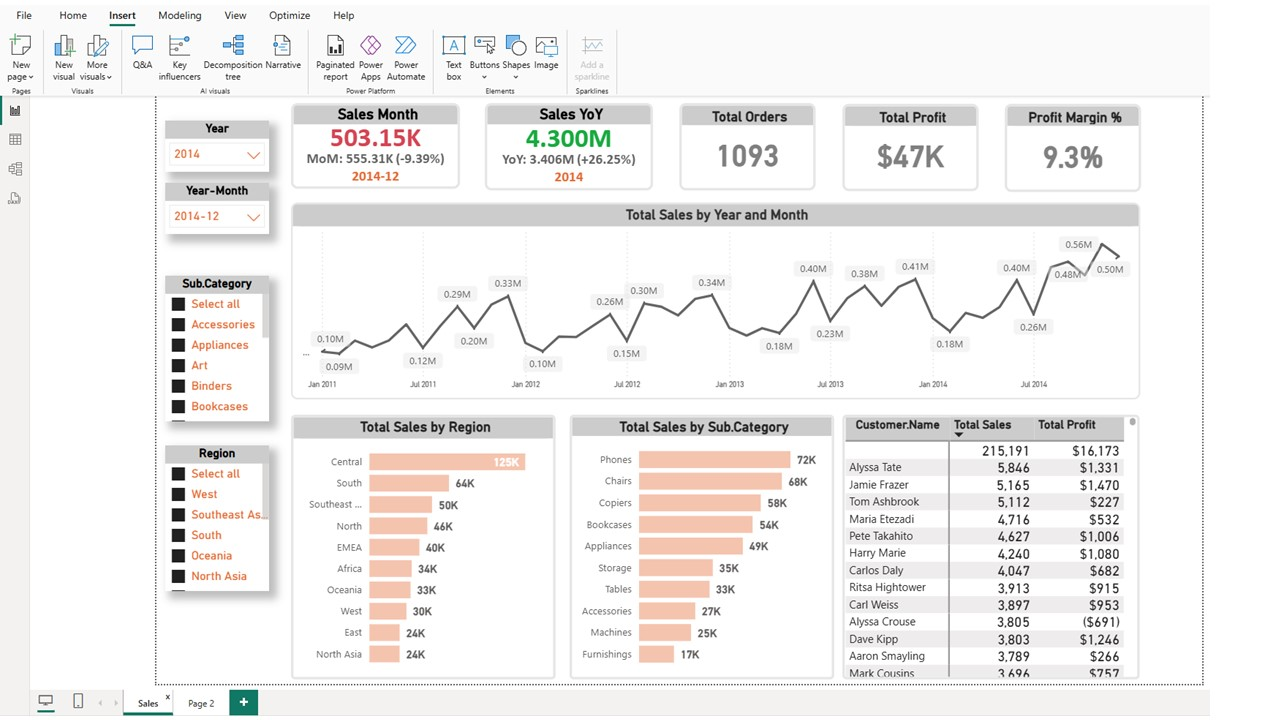

The page's visual inventory and layout, read from the dashboard file:
{"tool":"powerbi","page":{"name":"Sales","canvas":[1280,720],"ordinal":0},"visuals":[{"type":"kpi","title":"Sales Month","fields":{"Indicator":["Repo_Measures.Sales (Month)"],"TrendLine":["Dim_Date.YearMonth"],"Goal":["Repo_Measures.Sales Target (Last Month)"]},"box":[164.9,9,207.1,104.9],"z":0},{"type":"slicer","title":"Year","fields":{"Values":["Dim_Date.Year"]},"box":[10.8,30.5,127.3,62.7],"z":1000},{"type":"slicer","title":"Year-Month","fields":{"Values":["Dim_Date.YearMonth"]},"box":[10.8,106.7,127.3,62.7],"z":2000},{"type":"kpi","title":"Sales YoY","fields":{"Indicator":["Repo_Measures.Sales (YTD)"],"Goal":["Repo_Measures.Sales Target (Last Full Year)"],"TrendLine":["Dim_Date.Year"]},"box":[402.5,9,206.2,106.7],"z":3000},{"type":"card","title":"Total Orders","fields":{"Values":["Repo_Measures.Total Orders"]},"box":[639.9,9,166.7,106.7],"z":4000},{"type":"card","title":"Total Profit","fields":{"Values":["Repo_Measures.Total Profit"]},"box":[839.7,9.9,166.7,106.7],"z":5000},{"type":"card","title":"Profit Margin %","fields":{"Values":["Repo_Measures.Profit Margin %"]},"box":[1038.8,9.9,166.7,107.6],"z":6000},{"type":"lineChart","fields":{"Y":["Repo_Measures.Total Sales"],"Category":["Dim_Date.Date.Variation.Date Hierarchy.Year","Dim_Date.Date.Variation.Date Hierarchy.Month"]},"box":[164.9,130.9,1039.8,241.1],"z":7000},{"type":"clusteredBarChart","fields":{"Category":["Orders.Region"],"Y":["Repo_Measures.Total Sales"]},"box":[164.9,390.8,323.6,324],"z":8000},{"type":"clusteredBarChart","fields":{"Category":["Dim_Products.Sub.Category"],"Y":["Repo_Measures.Total Sales"]},"box":[505.5,390.8,323.6,324.5],"z":9000},{"type":"pivotTable","fields":{"Rows":["Dim_Customers.Customer.Name"],"Values":["Repo_Measures.Total Sales","Repo_Measures.Total Profit"]},"box":[840,390.4,364.5,324.2],"z":10000},{"type":"slicer","title":"Region","fields":{"Values":["Orders.Region"]},"box":[10.7,428.1,127.2,178.2],"z":11000},{"type":"slicer","title":"Sub.Category","fields":{"Values":["Dim_Products.Sub.Category"]},"box":[10.7,220.3,127.2,178.2],"z":12000}]}

Visuals, with their boxes on the page's 1280x720 design canvas (x1, y1, x2, y2). These are canvas units, not pixel positions in the 1280x720 screenshot, which may show the page scaled, cropped or inside an application window:
"Sales Month" kpi: {"left": 165, "top": 9, "right": 372, "bottom": 114}
"Year" slicer: {"left": 11, "top": 30, "right": 138, "bottom": 93}
"Year-Month" slicer: {"left": 11, "top": 107, "right": 138, "bottom": 169}
"Sales YoY" kpi: {"left": 402, "top": 9, "right": 609, "bottom": 116}
"Total Orders" card: {"left": 640, "top": 9, "right": 807, "bottom": 116}
"Total Profit" card: {"left": 840, "top": 10, "right": 1006, "bottom": 117}
"Profit Margin %" card: {"left": 1039, "top": 10, "right": 1206, "bottom": 118}
lineChart - Repo_Measures.Total Sales x Dim_Date.Date.Variation.Date Hierarchy.Year: {"left": 165, "top": 131, "right": 1205, "bottom": 372}
clusteredBarChart - Orders.Region x Repo_Measures.Total Sales: {"left": 165, "top": 391, "right": 488, "bottom": 715}
clusteredBarChart - Dim_Products.Sub.Category x Repo_Measures.Total Sales: {"left": 506, "top": 391, "right": 829, "bottom": 715}
pivotTable - Dim_Customers.Customer.Name x Repo_Measures.Total Sales: {"left": 840, "top": 390, "right": 1204, "bottom": 715}
"Region" slicer: {"left": 11, "top": 428, "right": 138, "bottom": 606}
"Sub.Category" slicer: {"left": 11, "top": 220, "right": 138, "bottom": 398}
